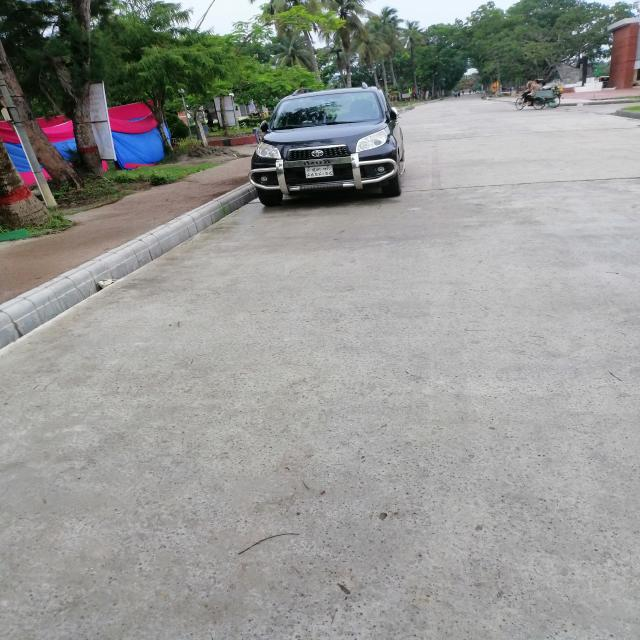Zeep: (248, 71, 402, 211)
